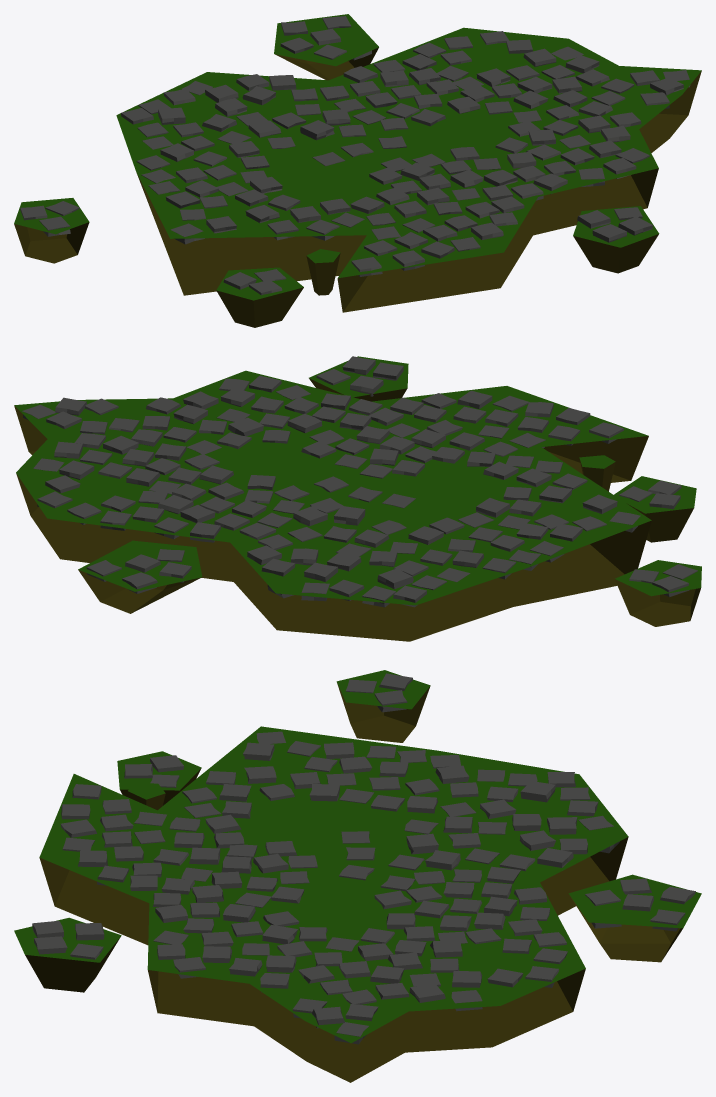
Rendered from land.glb.
3 views of the same model, one above another, from view 1: azimuth 30°, elevation 25°; view 2: azimuth 150°, elevation 25°; view 3: azimuth 270°, elevation 25° (orthographic). The views are drawn at different scales.
Parts seen in each view (by area): view 1: Cube.457, land.001, land; view 2: Cube.457, land.001, land; view 3: Cube.457, land.001, land.
Part boxes in pixels (box(x1,y1,x2,y2)): Cube.457: box(20, 16, 690, 295); land.001: box(14, 14, 701, 300); land: box(14, 47, 701, 327); Cube.457: box(22, 356, 697, 607); land.001: box(14, 356, 701, 605); land: box(14, 378, 700, 641); Cube.457: box(32, 673, 695, 1044); land.001: box(14, 670, 701, 1043); land: box(25, 683, 682, 1082).
Bounding box in the file's own units: 22.79 × 2.21 × 17.75.
